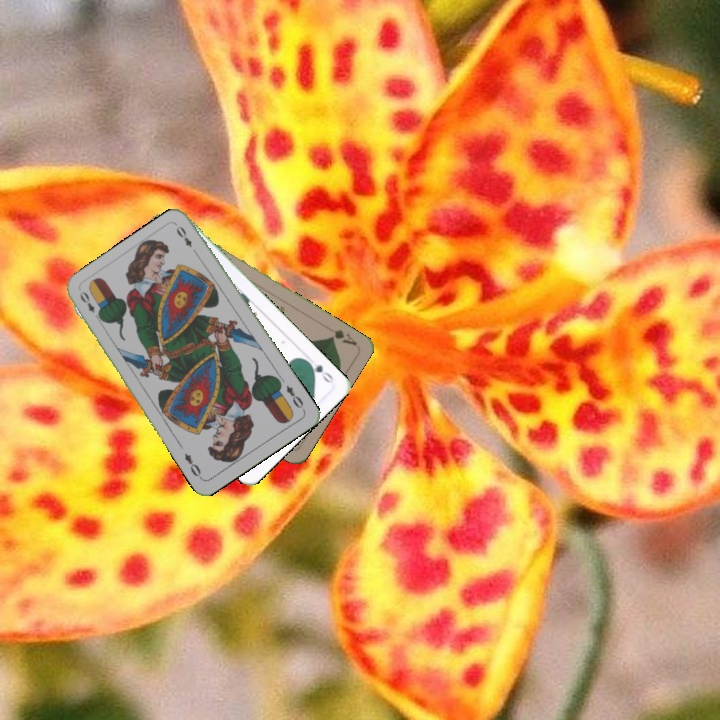EO: (75, 287, 104, 323), (282, 381, 306, 411)
GA: (321, 322, 359, 348)
GO: (302, 356, 336, 386)
